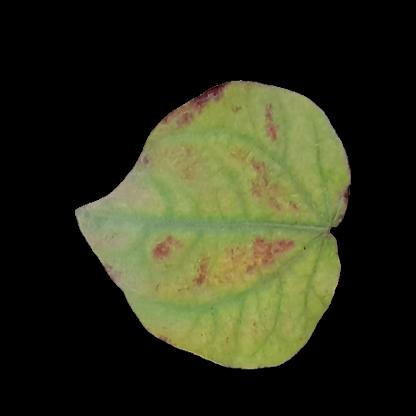curl_stage1: (145, 249, 333, 325), (176, 134, 332, 211), (121, 170, 166, 262), (200, 325, 291, 360), (204, 87, 270, 133)
